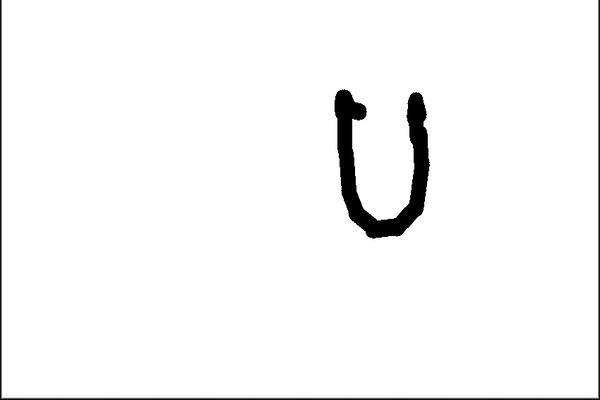U: (330, 78, 437, 242)
